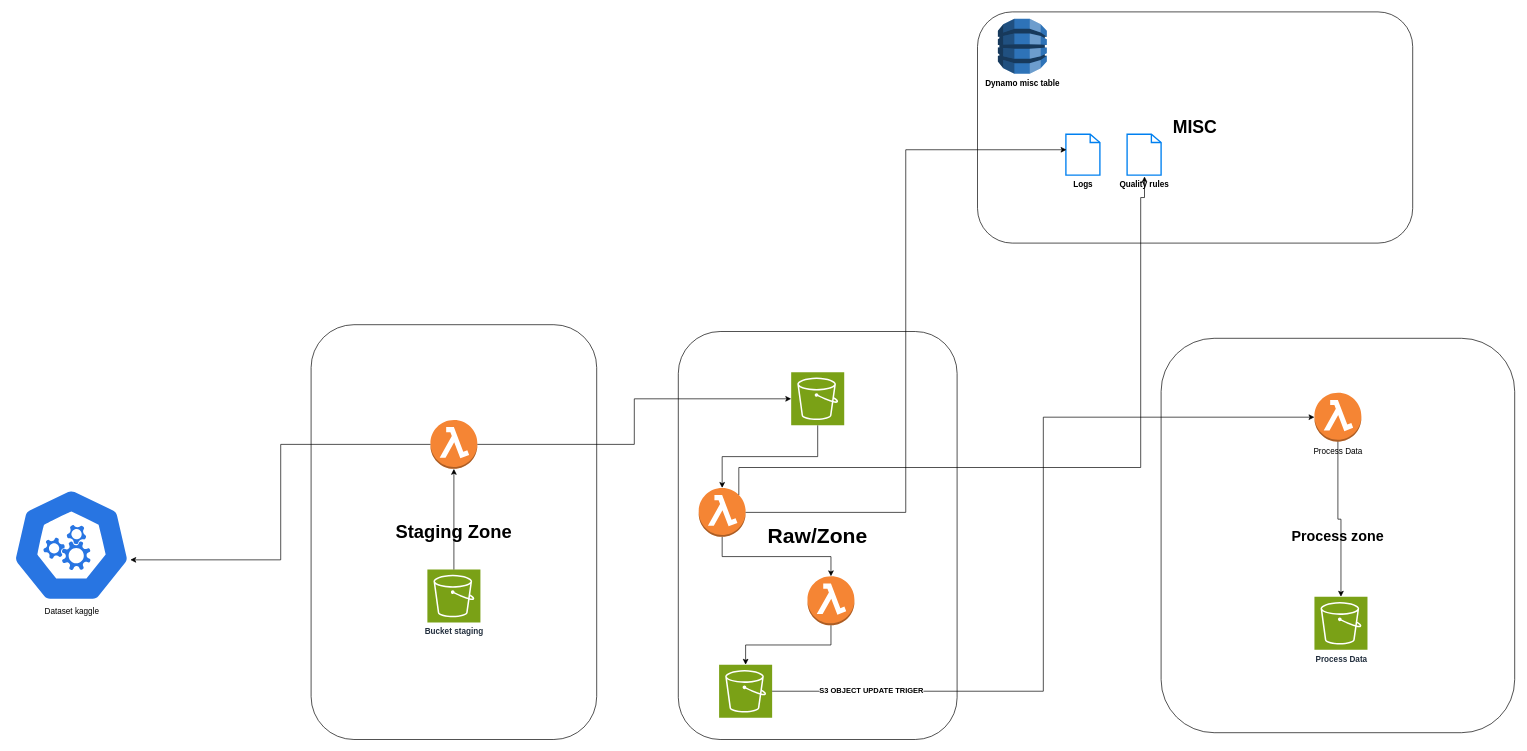
This 1527x751 diagram has some shape labels left out. The shapes that lost their labels are listed below. From the top down, each one's centre as x and y in pixels, then its label:
the point at 817,398: Pre Raw
the point at 453,444: Lambda-staging
the point at 722,512: Validate Quality
the point at 830,600: Ingest lambda to process
the point at 745,691: Raw Zone
